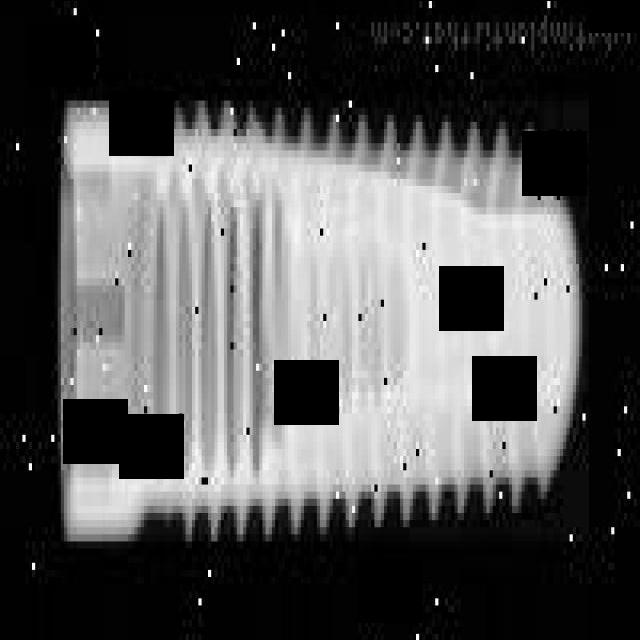Root canal obturation: (58, 100, 594, 555)
